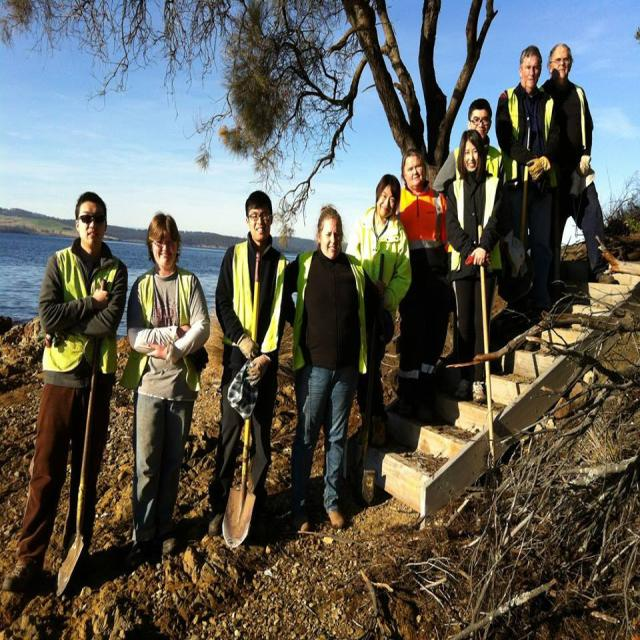body: (0, 189, 130, 594), (115, 209, 213, 567), (282, 201, 383, 536), (204, 188, 292, 543), (342, 172, 413, 448), (538, 41, 615, 287), (494, 44, 562, 315), (444, 128, 507, 406), (394, 147, 452, 420), (430, 96, 503, 194)
